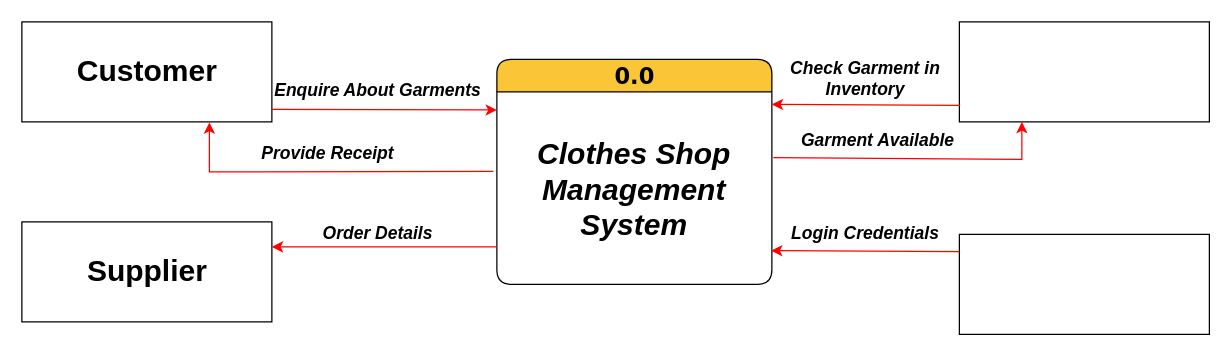
Image size: 1231x356. Some labels were removed from this diagram. The centre of each missing label's shape, as x and y in pixels:
"Admin" goes at [1083,283].
"Employee" goes at [1083,71].
